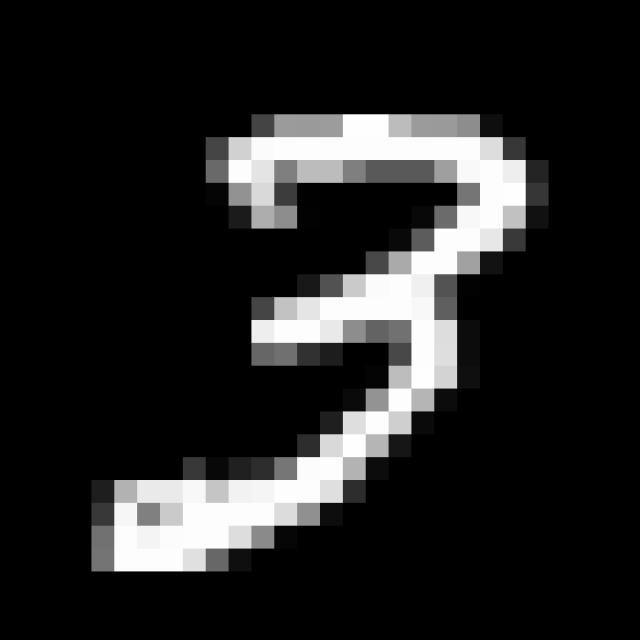three -3-: (85, 101, 543, 593)
